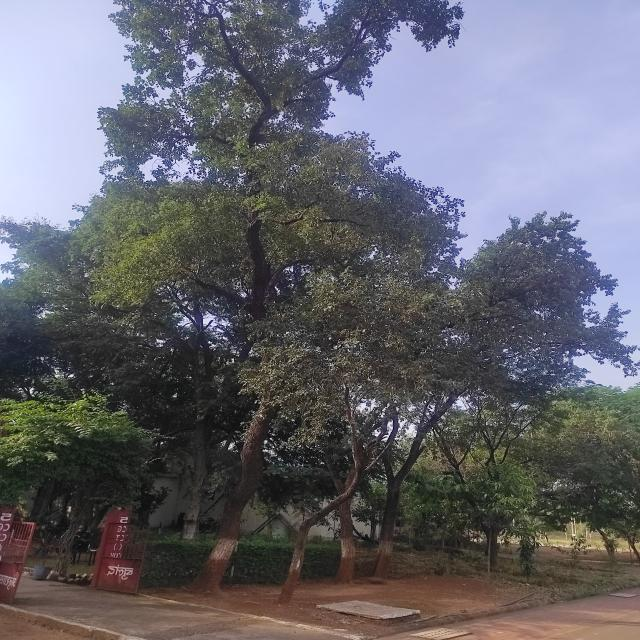Devakanchan tree: (94, 8, 540, 577)
